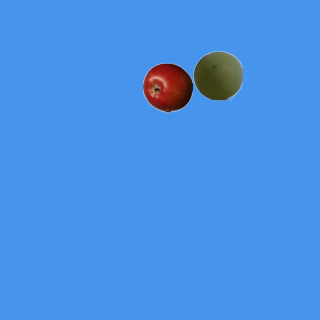Apple Braeburn: (142, 62, 192, 112)
Grape White 4: (192, 50, 242, 100)
